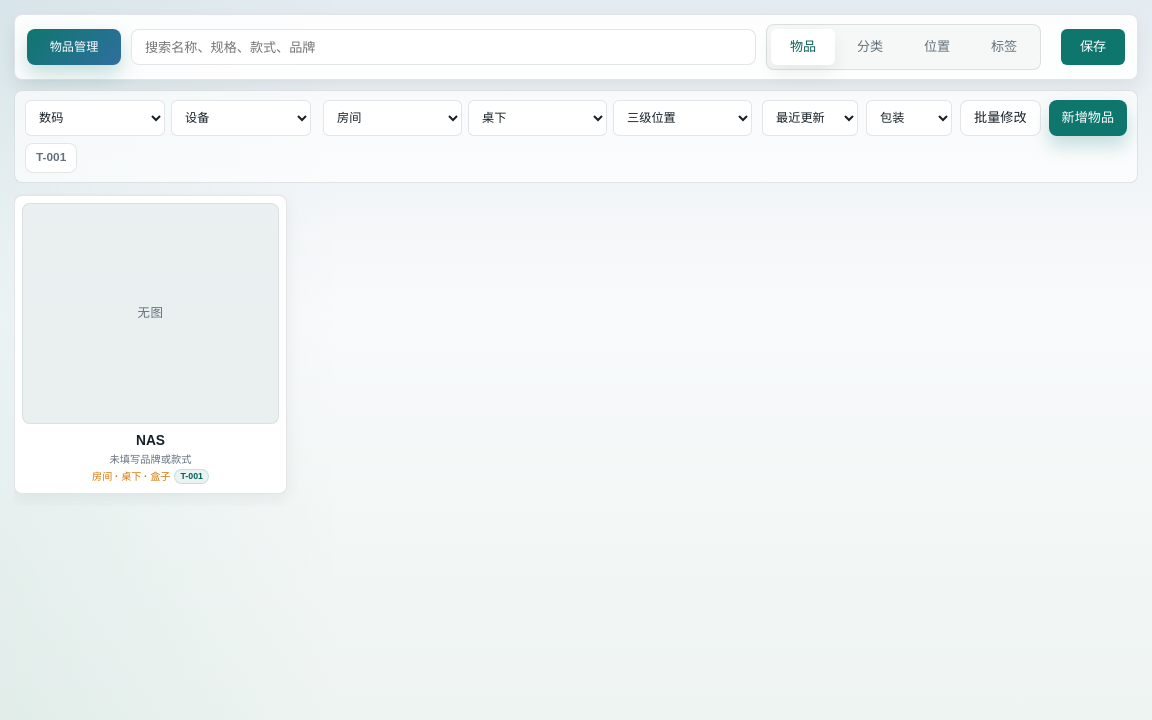
Test case: combined category/location hierarchy filters › All at child level keeps the parent, and All at parent level clears both levels
Select "全部" in the dropdown named "二级分类筛选" at [241, 118], box 171,100 -> 311,136
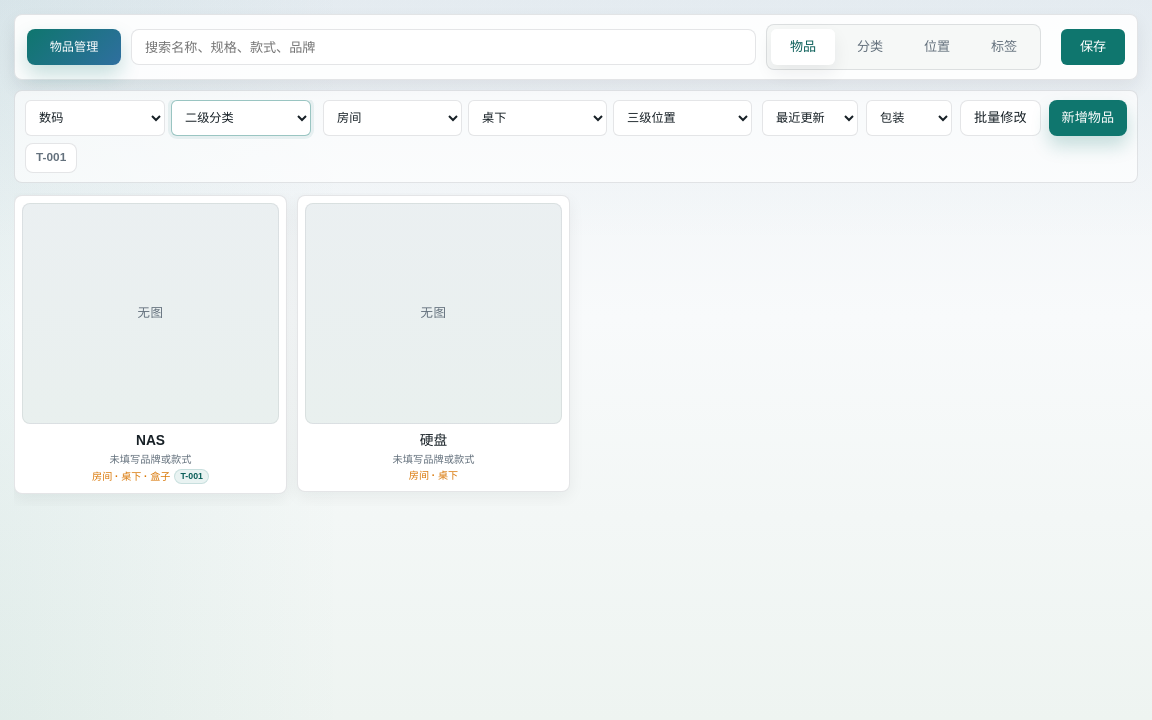
Now the button "无图 硬盘 未填写品牌或款式 房间 · 桌下" is shown, box 297,195 -> 570,492
Select "分类" in the dropdown named "一级分类筛选" at [95, 118], box 25,100 -> 165,136
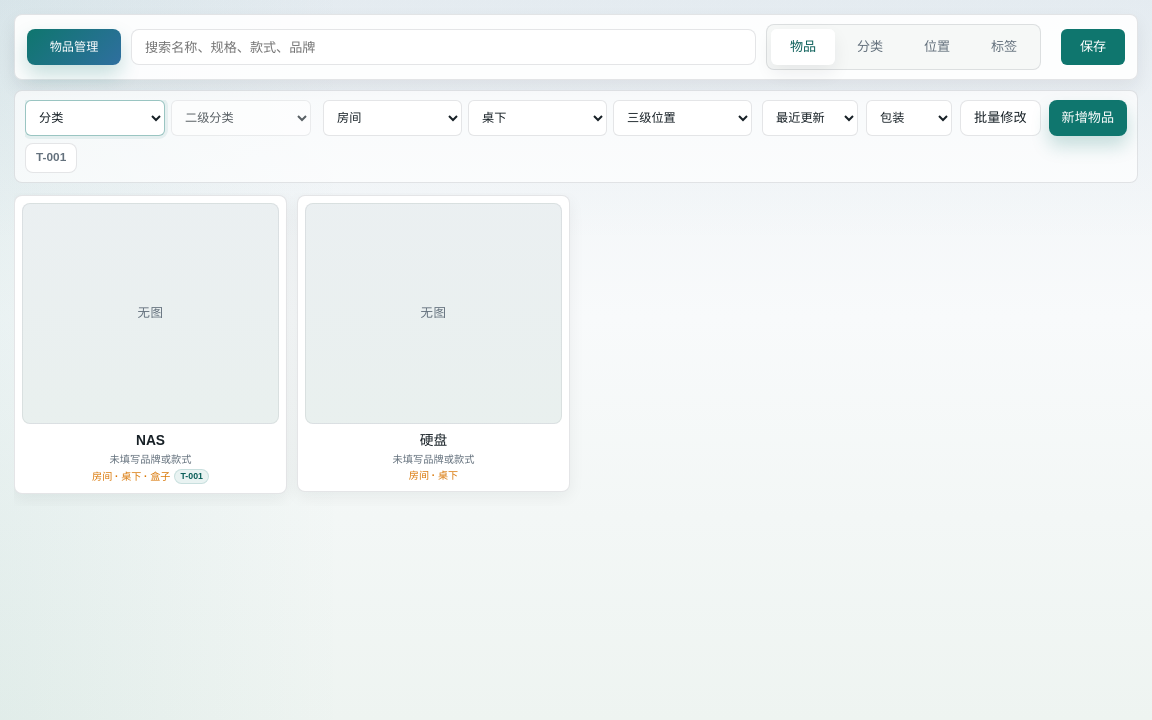
Now the dropdown named "二级分类筛选" is disabled, box 171,100 -> 311,136
